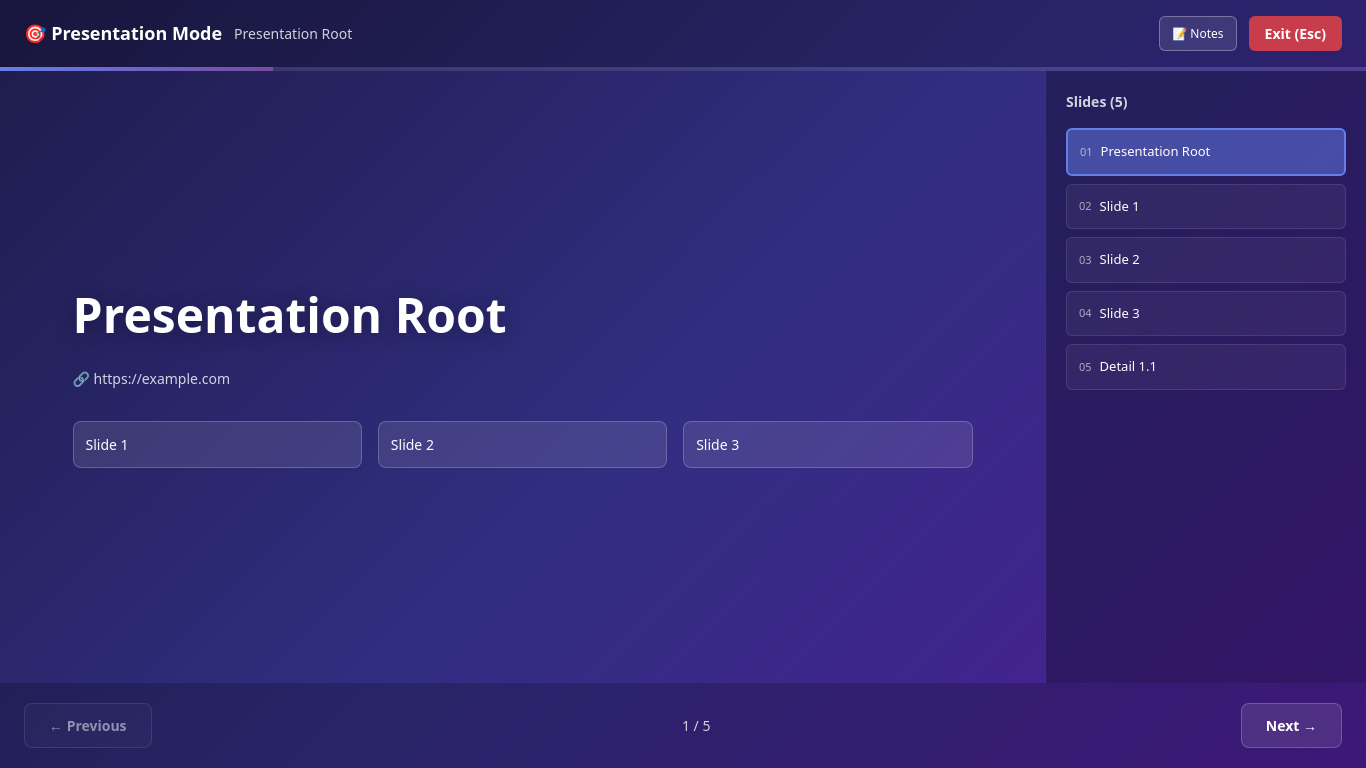
Scenario: PresentationMode › should toggle notes when notes button is clicked
What coordinates should you click on to do the following:
click the button with aria-label "Show speaker notes"
I would click on:
 (1198, 34)
Its box is x1=1159 y1=16 x2=1237 y2=51.
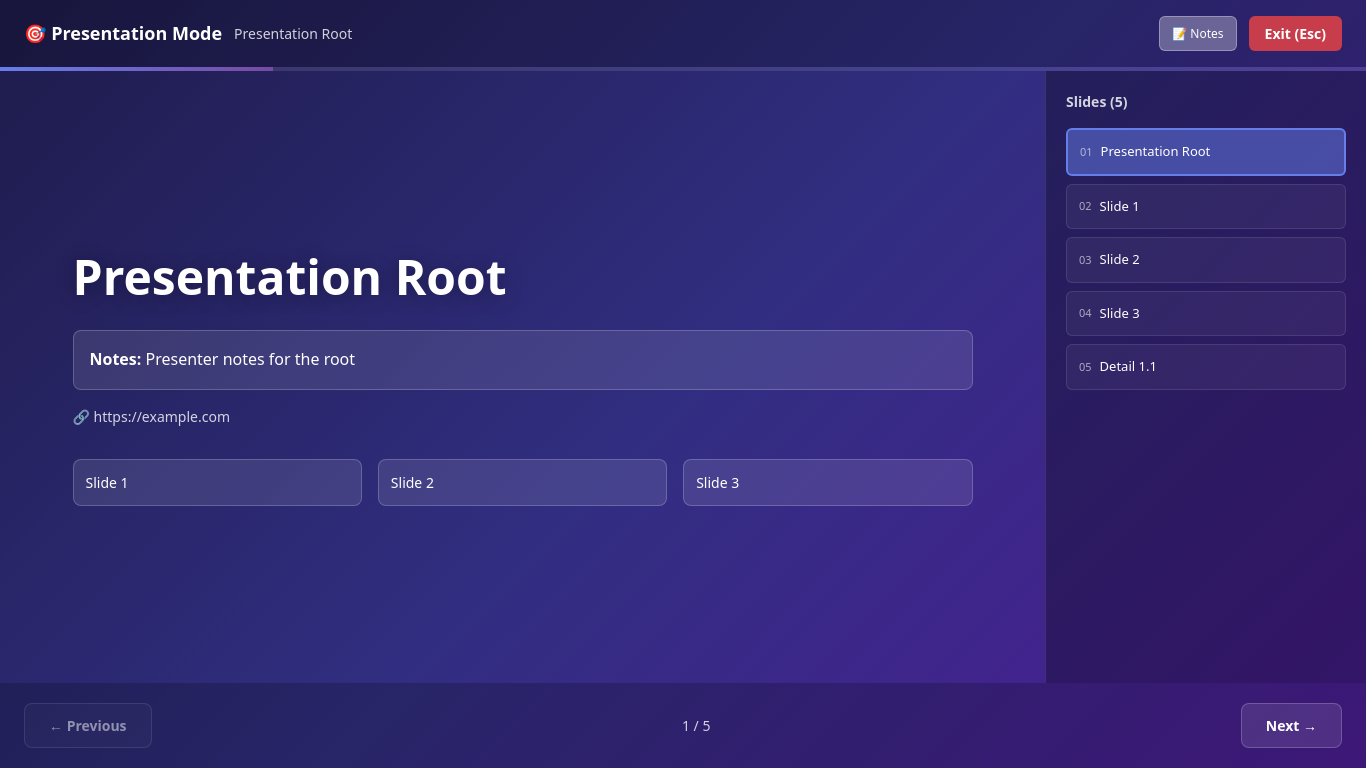
Result: the button with aria-label "Hide speaker notes" is shown at x1=1159 y1=16 x2=1237 y2=51
Result: the text "Presenter notes for the root" is shown at x1=146 y1=348 x2=355 y2=370
